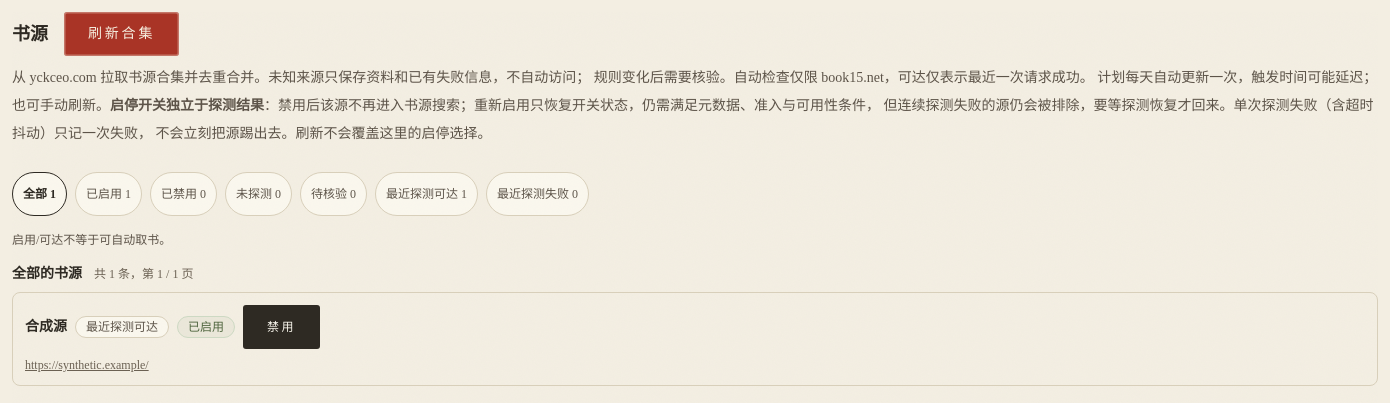
it: disable 会话边界 › POST 正文迟到：normal
Expected: the text "合成源" is shown, [25,317,67,337]
Click the button "禁用" at (281, 327), box [243,305,320,349]
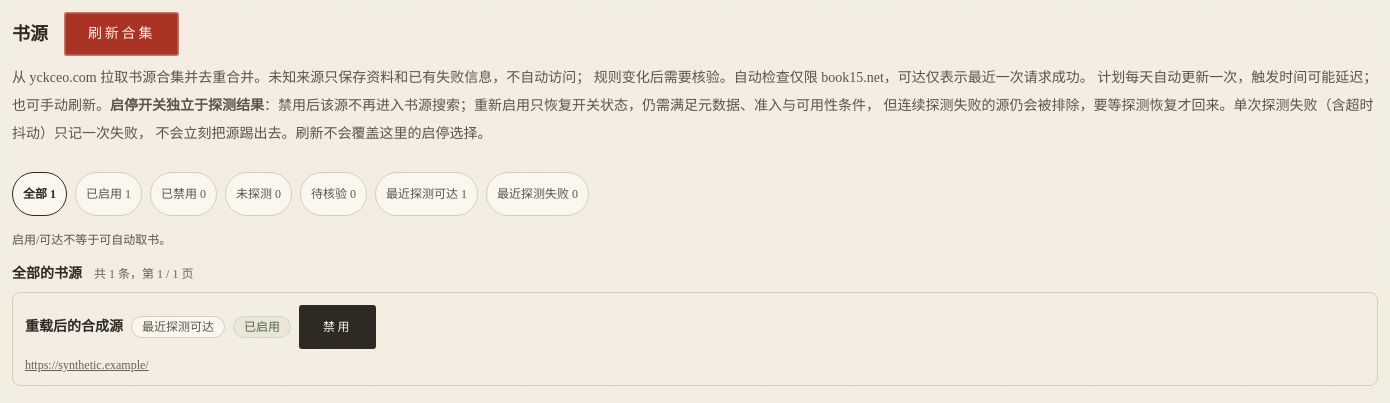
Expected: the button "禁用" is enabled, [299,305,376,349]
Now the text "重载后的合成源" is shown, box [25,317,123,337]
